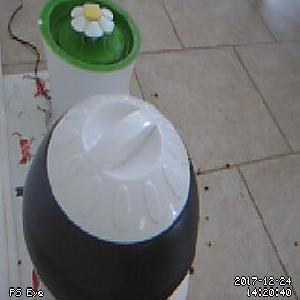fountain: (38, 1, 141, 72)
